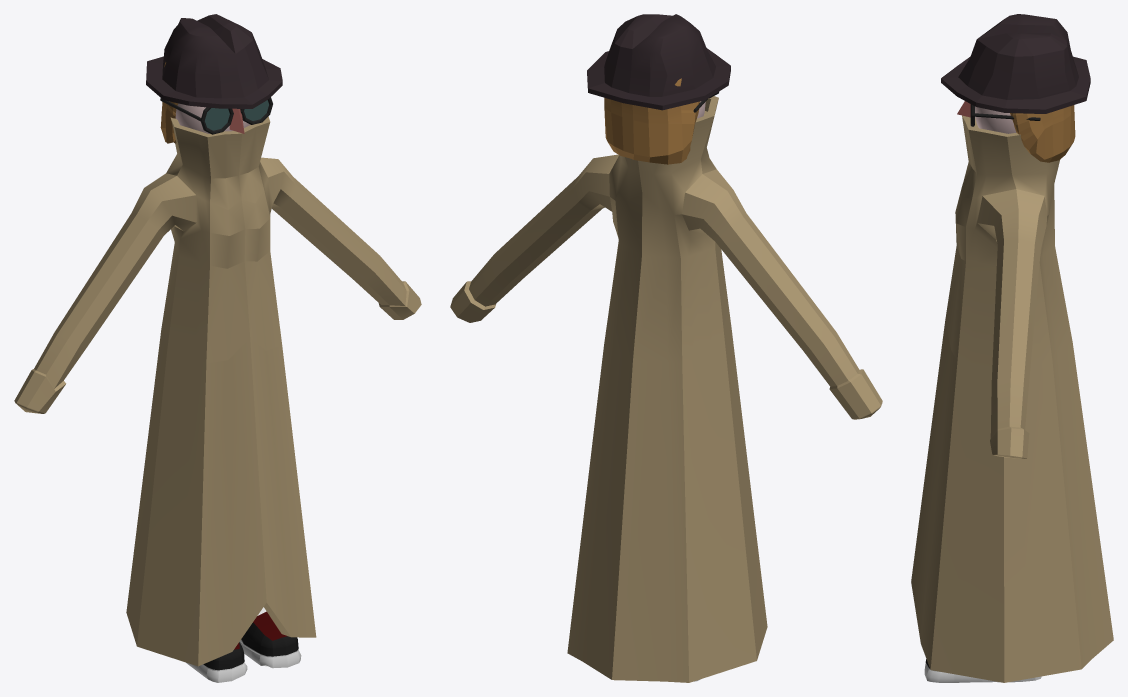
The model's file is ShopKeeperTrench.fbx.
3 renders of one model, left to right at view 1: azimuth 30°, elevation 25°; view 2: azimuth 150°, elevation 25°; view 3: azimuth 270°, elevation 25°, orthographic. The views are drawn at different scales.
Parts seen in each view (by area): view 1: AliceLowPoly2; view 2: AliceLowPoly2; view 3: AliceLowPoly2.
Part boxes in pixels (x1=…): AliceLowPoly2: x1=14, y1=14, x2=421, y2=682; AliceLowPoly2: x1=450, y1=14, x2=882, y2=682; AliceLowPoly2: x1=911, y1=14, x2=1113, y2=682.
Bounding box in the file's own units: 0.0167 × 0.0244 × 0.00702.
